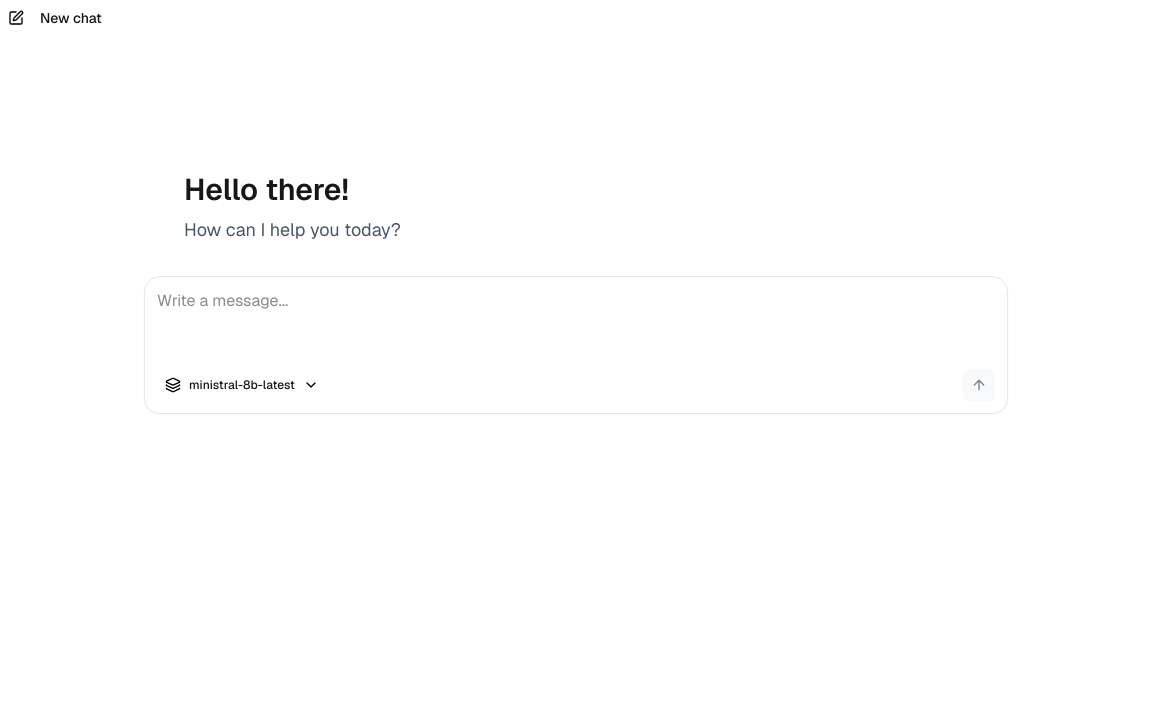
it: NewChat › guest with a reply still streaming › asks before discarding the chat
Step 1. Type "ping" into the text box with placeholder "Write a message..." → (576, 329), box [157,289,995,369]
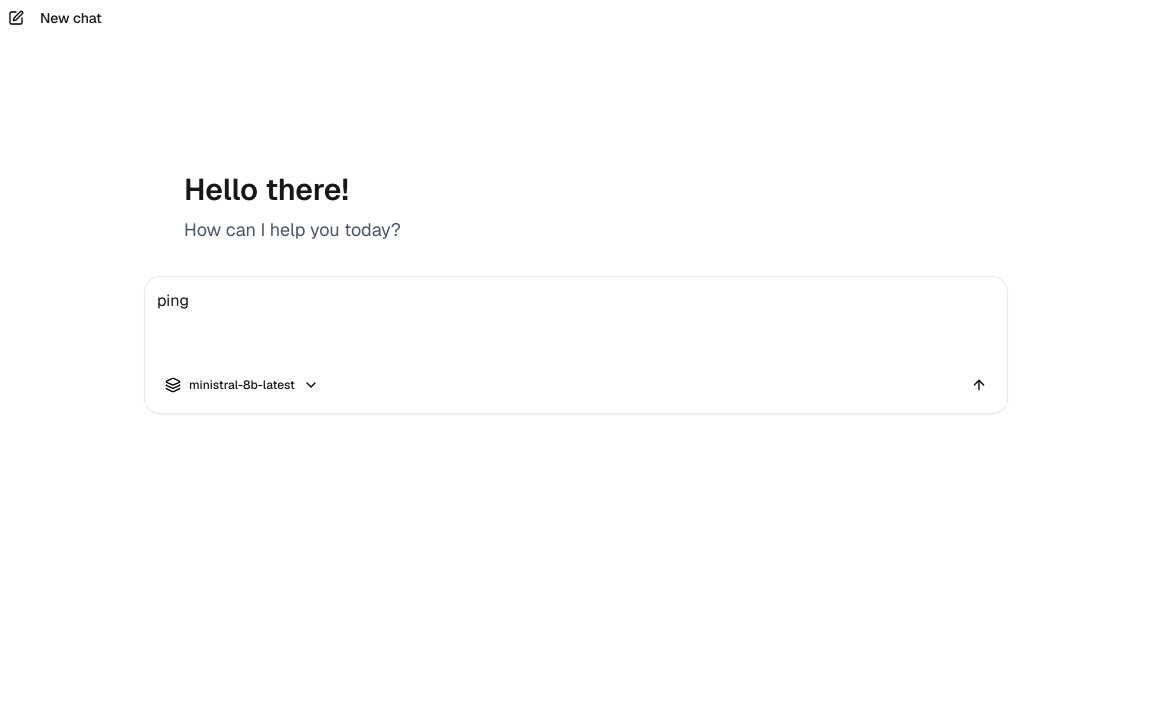
Step 2. Press Enter in the text box with placeholder "Write a message...", box [157,289,995,369]
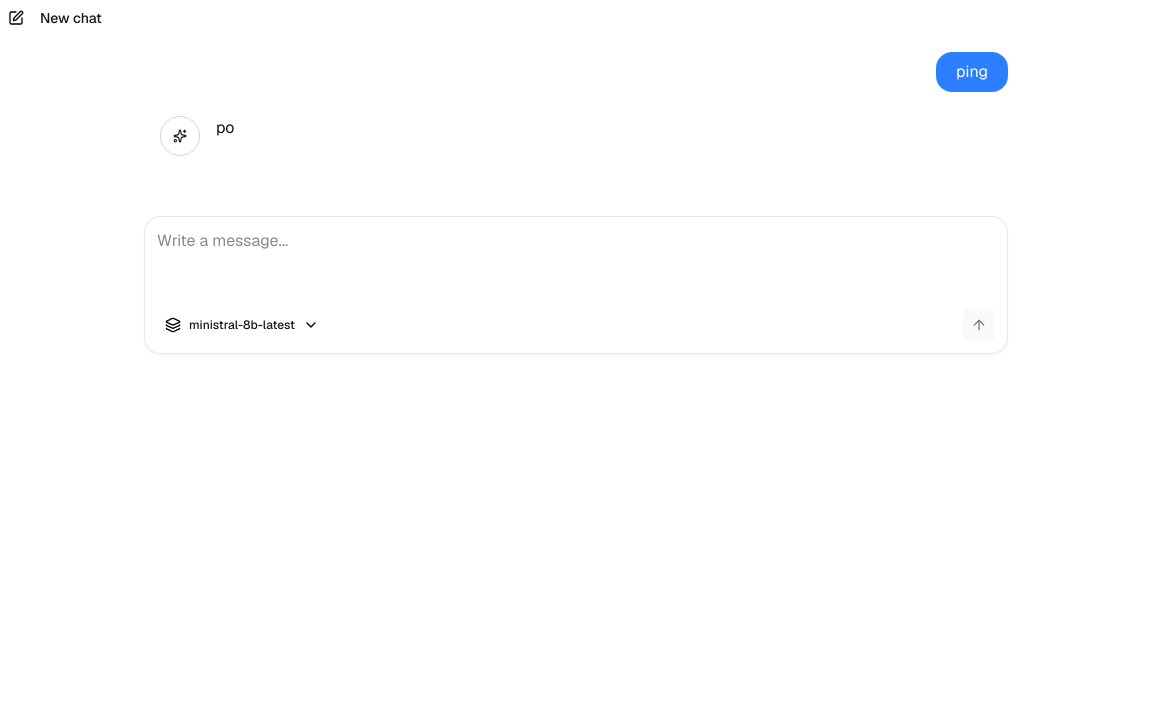
Now the text "po" is shown, box [216,116,234,140]
Step 3. Click the button "New chat" → (71, 18), box [0,0,1151,36]
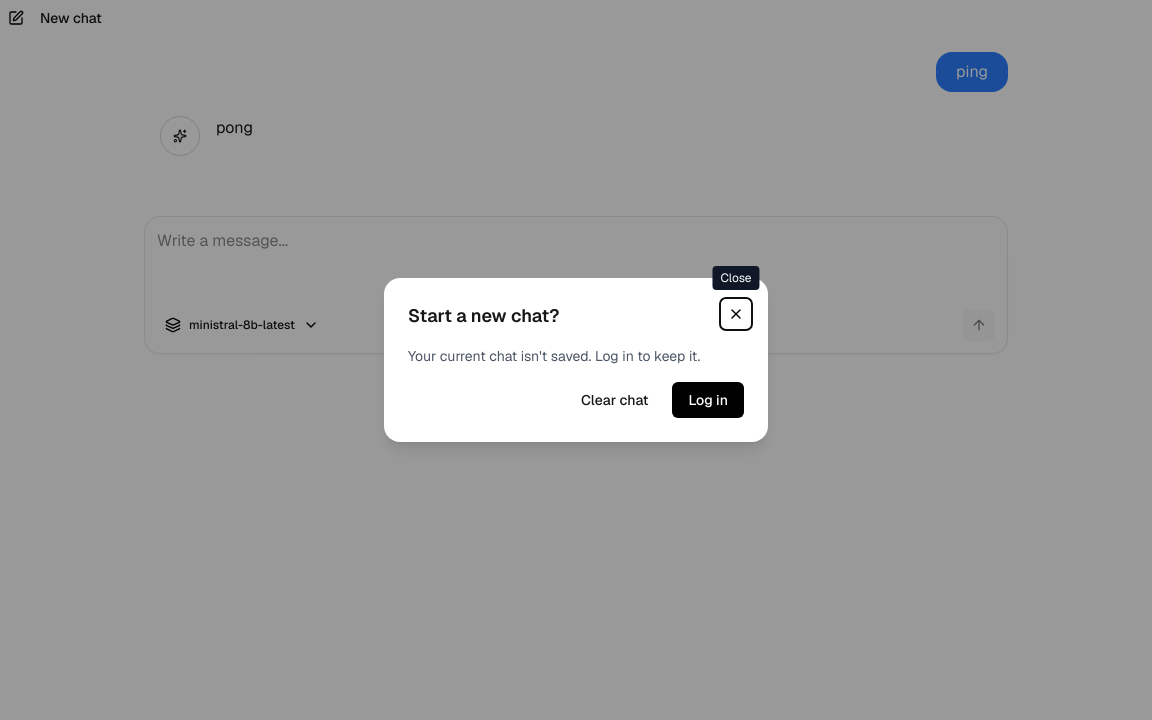
Now the dialog "Start a new chat?" is shown, box [384,278,768,442]
